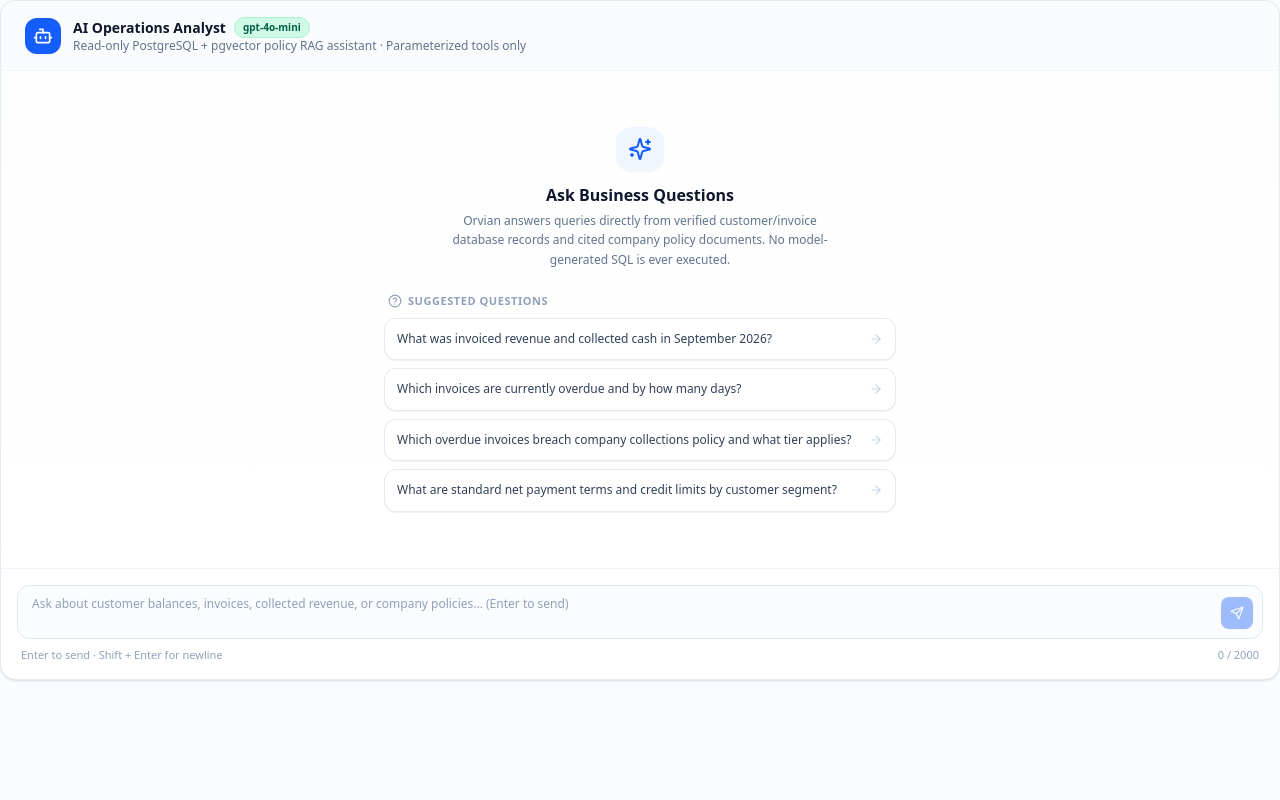
Test case: ChatCard AI Operations Analyst › displays verified policy citations and expands source excerpt on click
Replace the text in the text box with placeholder "Ask about customer balances" with "Which overdue invoices violate collections policy?" at (640, 612), box [17, 584, 1263, 638]
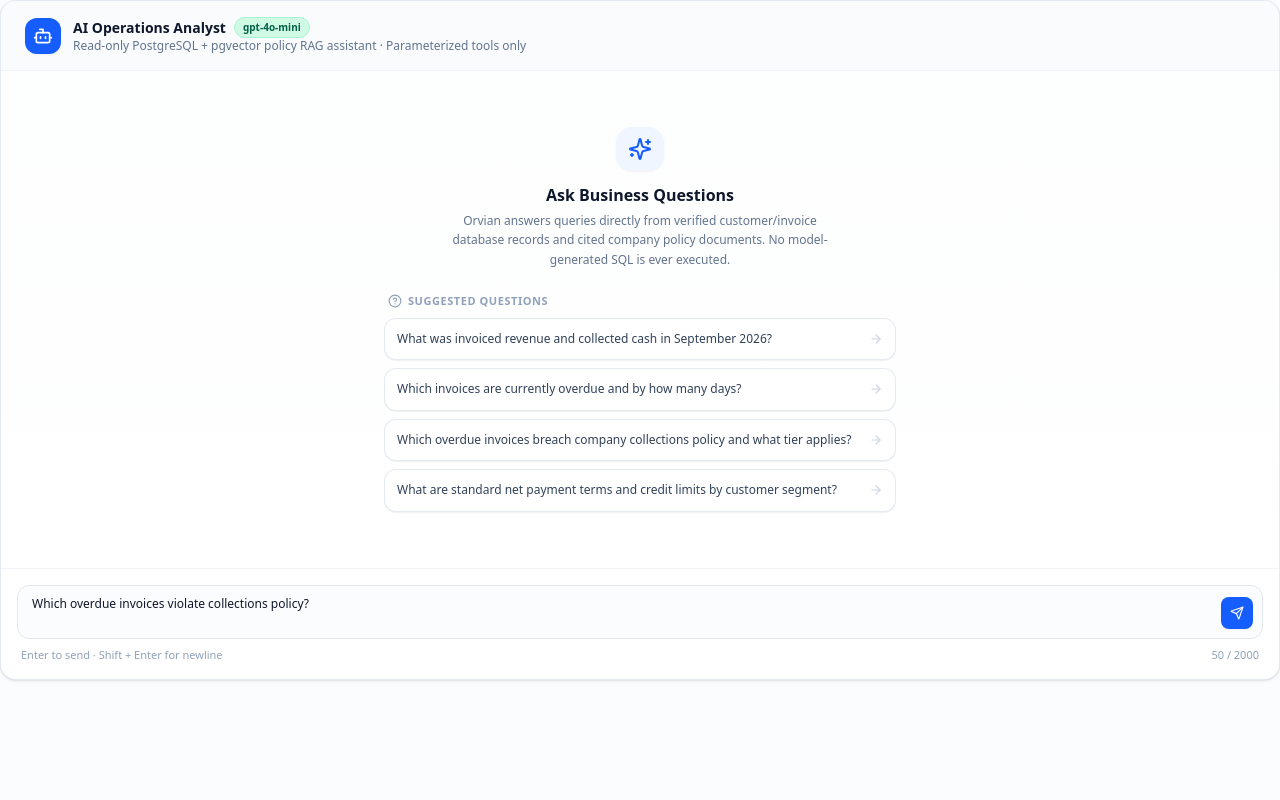
Click the button named "send message" at (1237, 612), box [1221, 596, 1253, 628]
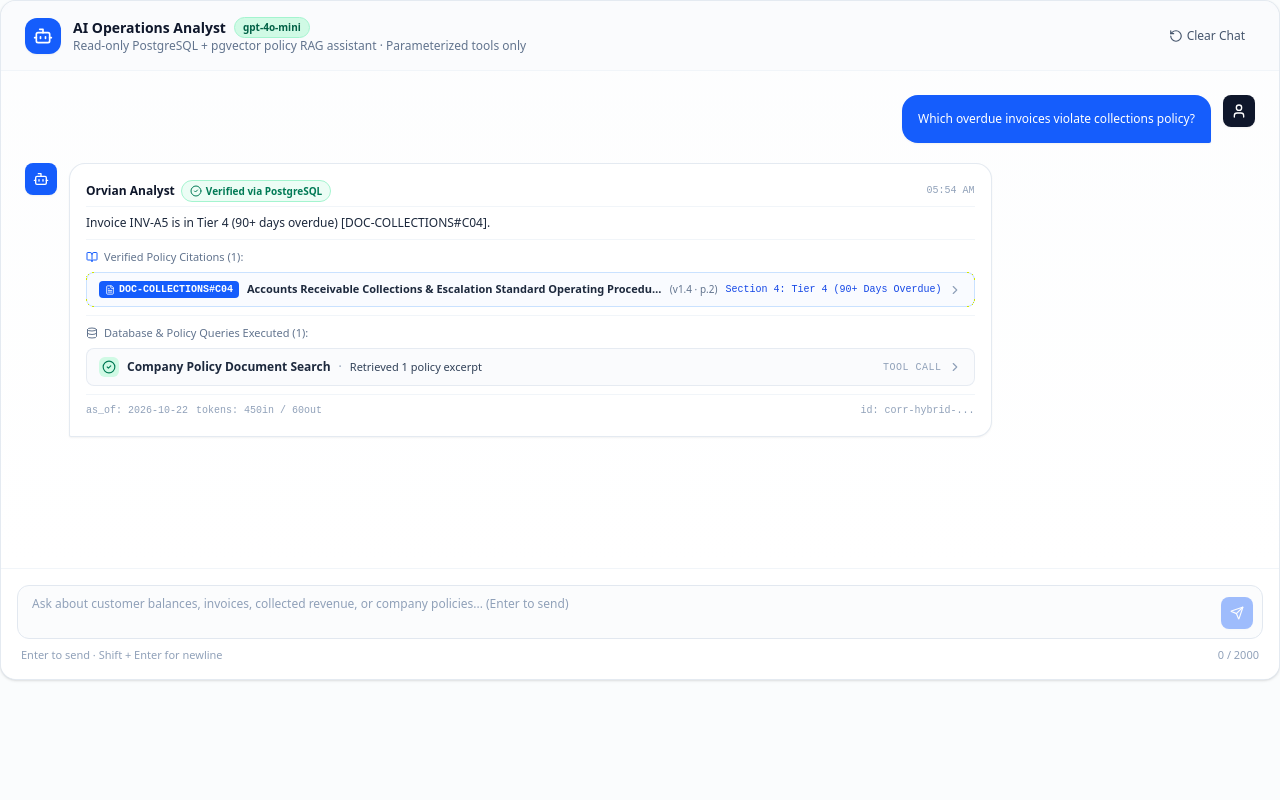
Expected: the text "Verified Policy Citations (1):" is shown, [104, 248, 243, 266]
Expected: the text "DOC-COLLECTIONS#C04" is shown, [99, 281, 239, 298]
Expected: the text "Company Policy Document Search" is shown, [127, 359, 331, 375]
Click the button "DOC-COLLECTIONS#C04" at (530, 290), box [87, 273, 974, 306]
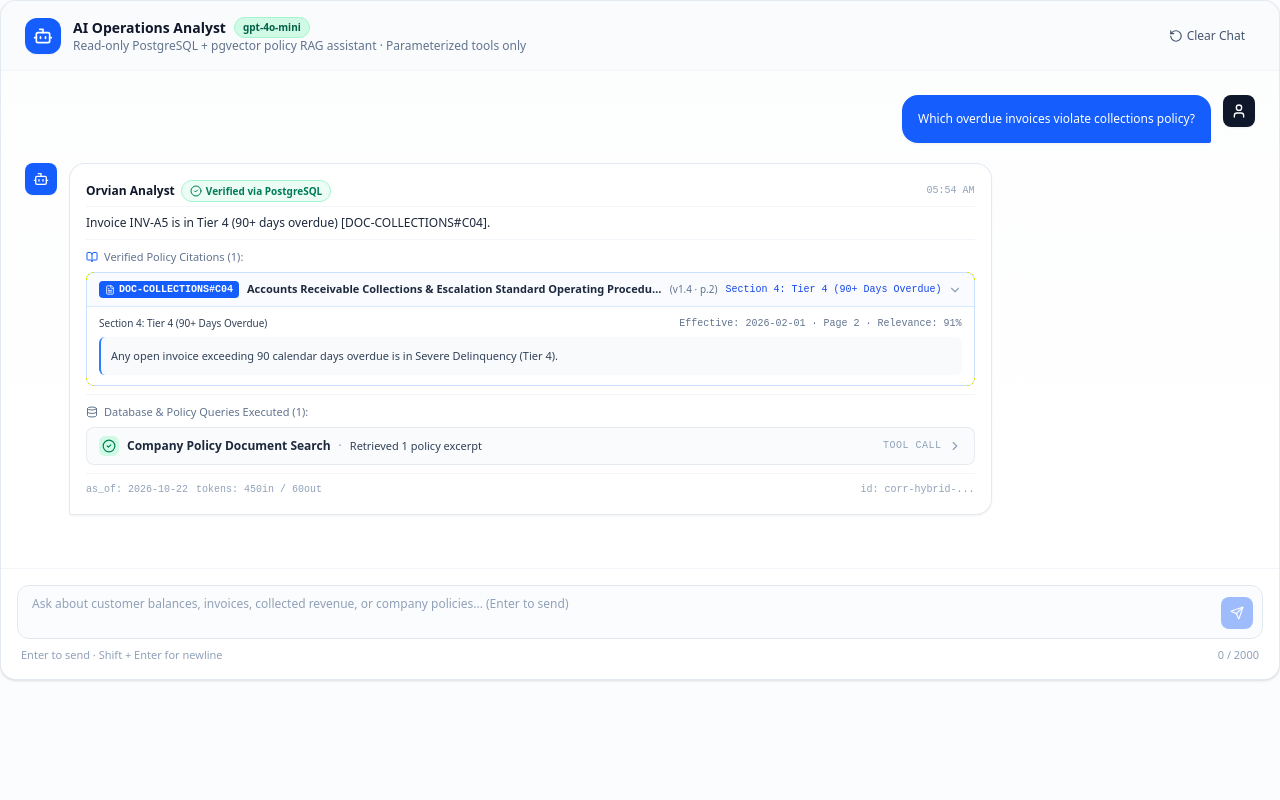
Expected: the text "Any open invoice exceeding 90 calendar days overdue" is shown, [111, 348, 558, 363]
